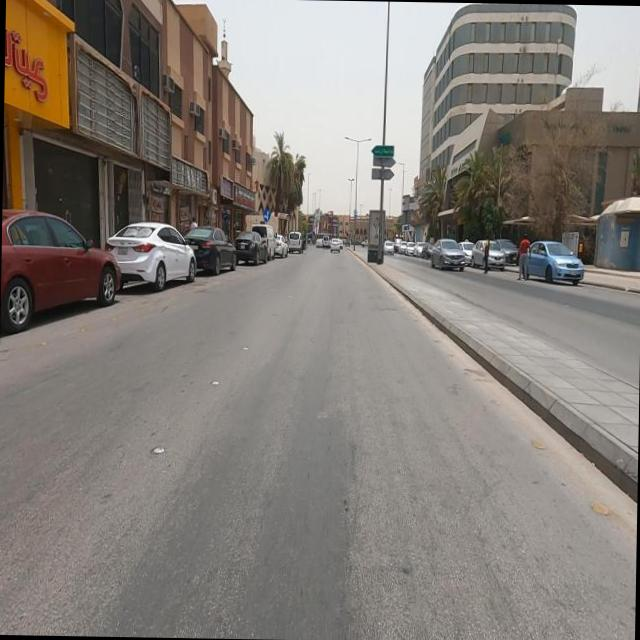debris: (50, 35, 176, 184), (121, 68, 193, 196), (152, 140, 236, 210), (203, 160, 244, 217)
